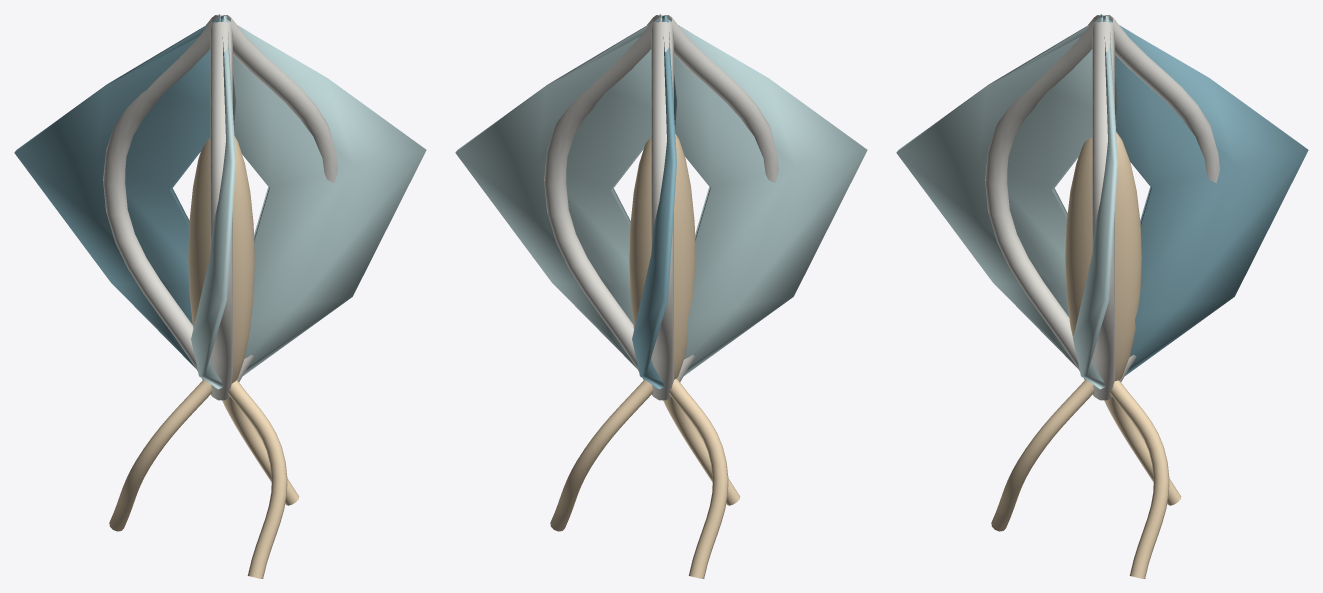
The model's file is bio_lantern_sail_01_near.glb.
3 renders of one model, left to right at view 1: azimuth 30°, elevation 25°; view 2: azimuth 150°, elevation 25°; view 3: azimuth 270°, elevation 25°, orthographic.
Parts seen in each view (by area): view 1: Ribbed sensory membrane, Ribbed sensory membrane.001, Membrane leading seam.001, Buoyancy spindle, Ribbed sensory membrane.002, Membrane leading seam.002, Membrane leading seam, Trailing electroreceptor.002, Trailing electroreceptor.001, Trailing electroreceptor; view 2: Ribbed sensory membrane.002, Ribbed sensory membrane, Membrane leading seam, Buoyancy spindle, Ribbed sensory membrane.001, Membrane leading seam.001, Membrane leading seam.002, Trailing electroreceptor.001, Trailing electroreceptor, Trailing electroreceptor.002; view 3: Ribbed sensory membrane.001, Ribbed sensory membrane.002, Buoyancy spindle, Membrane leading seam.002, Ribbed sensory membrane, Membrane leading seam, Membrane leading seam.001, Trailing electroreceptor, Trailing electroreceptor.002, Trailing electroreceptor.001.
Boxes of the visible parts, <box> form: Ribbed sensory membrane: <box>218,14,426,375</box>; Ribbed sensory membrane.001: <box>14,16,221,368</box>; Membrane leading seam.001: <box>103,15,218,396</box>; Buoyancy spindle: <box>188,136,254,383</box>; Ribbed sensory membrane.002: <box>191,16,235,389</box>; Membrane leading seam.002: <box>210,22,232,400</box>; Membrane leading seam: <box>216,15,337,381</box>; Trailing electroreceptor.002: <box>228,380,287,578</box>; Trailing electroreceptor.001: <box>109,379,212,531</box>; Trailing electroreceptor: <box>222,397,299,505</box>; Ribbed sensory membrane.002: <box>659,14,867,375</box>; Ribbed sensory membrane: <box>455,16,662,368</box>; Membrane leading seam: <box>544,15,659,396</box>; Buoyancy spindle: <box>629,134,695,384</box>; Ribbed sensory membrane.001: <box>632,16,676,389</box>; Membrane leading seam.001: <box>651,22,673,400</box>; Membrane leading seam.002: <box>657,15,778,381</box>; Trailing electroreceptor.001: <box>669,378,728,578</box>; Trailing electroreceptor: <box>550,379,653,531</box>; Trailing electroreceptor.002: <box>663,397,740,505</box>; Ribbed sensory membrane.001: <box>1100,14,1308,375</box>; Ribbed sensory membrane.002: <box>896,16,1103,368</box>; Buoyancy spindle: <box>1065,132,1141,380</box>; Membrane leading seam.002: <box>985,15,1100,396</box>; Ribbed sensory membrane: <box>1073,16,1117,389</box>; Membrane leading seam: <box>1092,22,1114,400</box>; Membrane leading seam.001: <box>1098,15,1219,381</box>; Trailing electroreceptor: <box>1110,380,1169,578</box>; Trailing electroreceptor.002: <box>991,379,1094,531</box>; Trailing electroreceptor.001: <box>1104,397,1181,505</box>.
Size of the model in its own units: 1.59 by 2.55 by 1.83.
